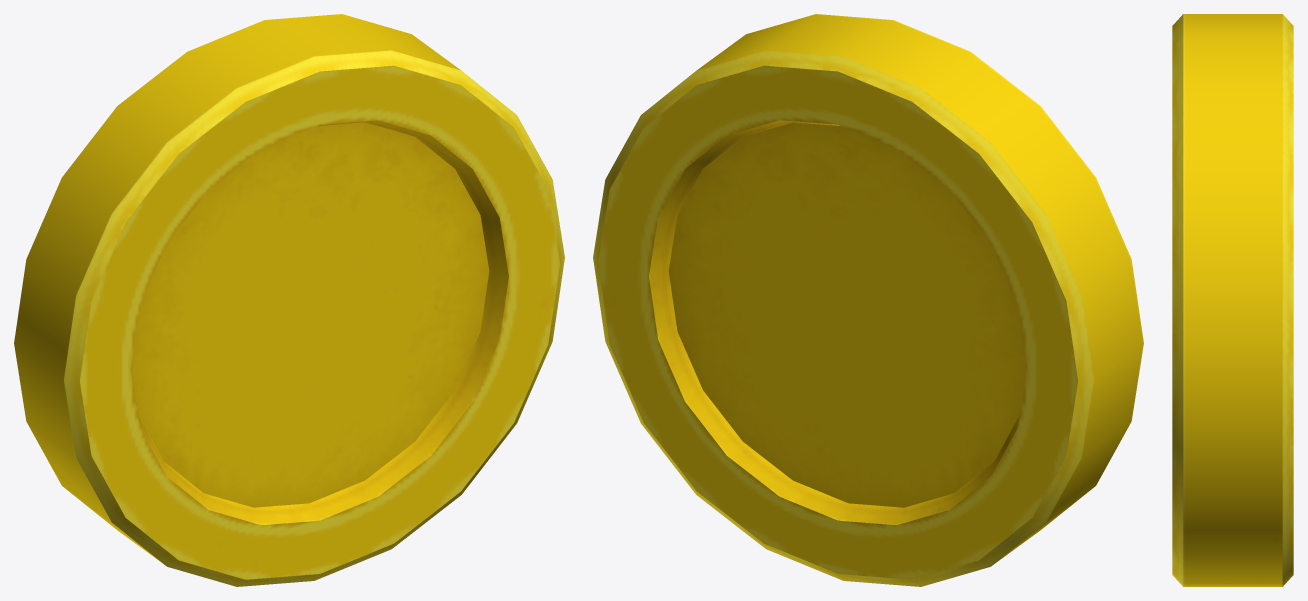
File: R02_Coin.fbx
The picture shows the model from 3 angles, left to right: view 1: azimuth 30°, elevation 25°; view 2: azimuth 150°, elevation 25°; view 3: azimuth 270°, elevation 25°; orthographic projection.
Visible parts, largest first — view 1: coin; view 2: coin; view 3: coin.
Boxes of the visible parts, x1,y1,x2,y2 form: coin: (14, 14, 564, 586); coin: (593, 14, 1143, 586); coin: (1172, 14, 1293, 586).
Size of the model in its own units: 10.34 by 10.34 by 2.17.
